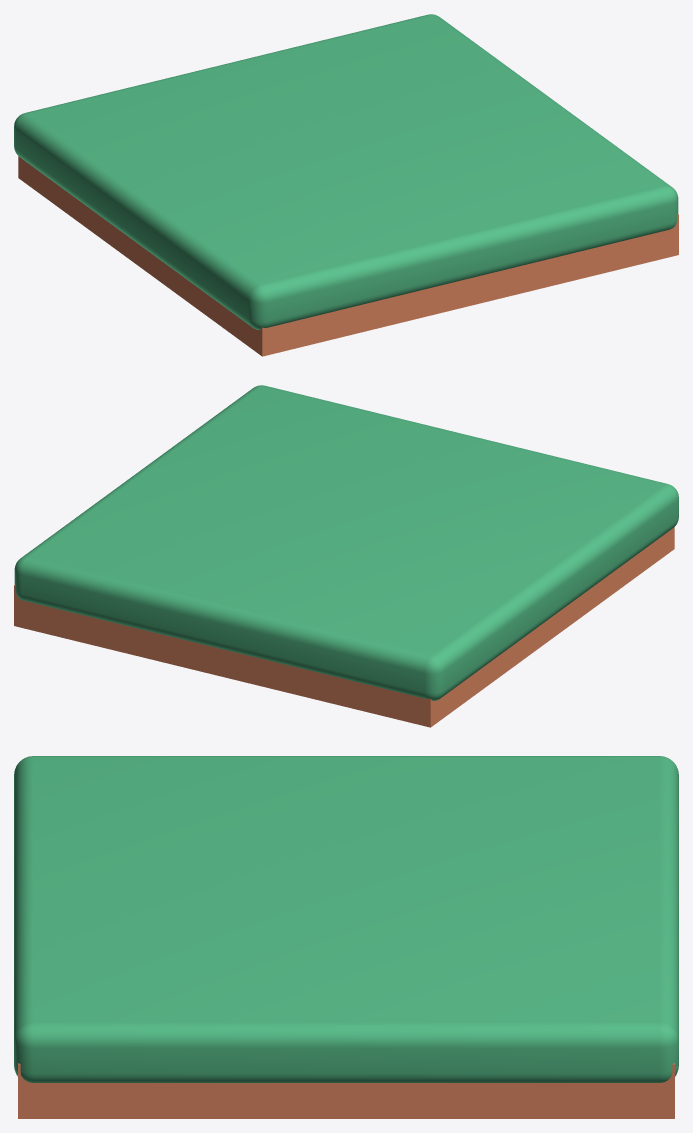
File: ground.glb
3 views of the same model, one above another, from view 1: azimuth 30°, elevation 25°; view 2: azimuth 150°, elevation 25°; view 3: azimuth 270°, elevation 25° (orthographic). The views are drawn at different scales.
Visible parts, largest first — view 1: Plane.001; view 2: Plane.001; view 3: Plane.001.
Part boxes in pixels (x1,y1,x2,y2): Plane.001: [14, 14, 678, 356]; Plane.001: [14, 385, 678, 727]; Plane.001: [14, 756, 678, 1118].
Bounding box in the file's own units: 2 × 0.3 × 2.
